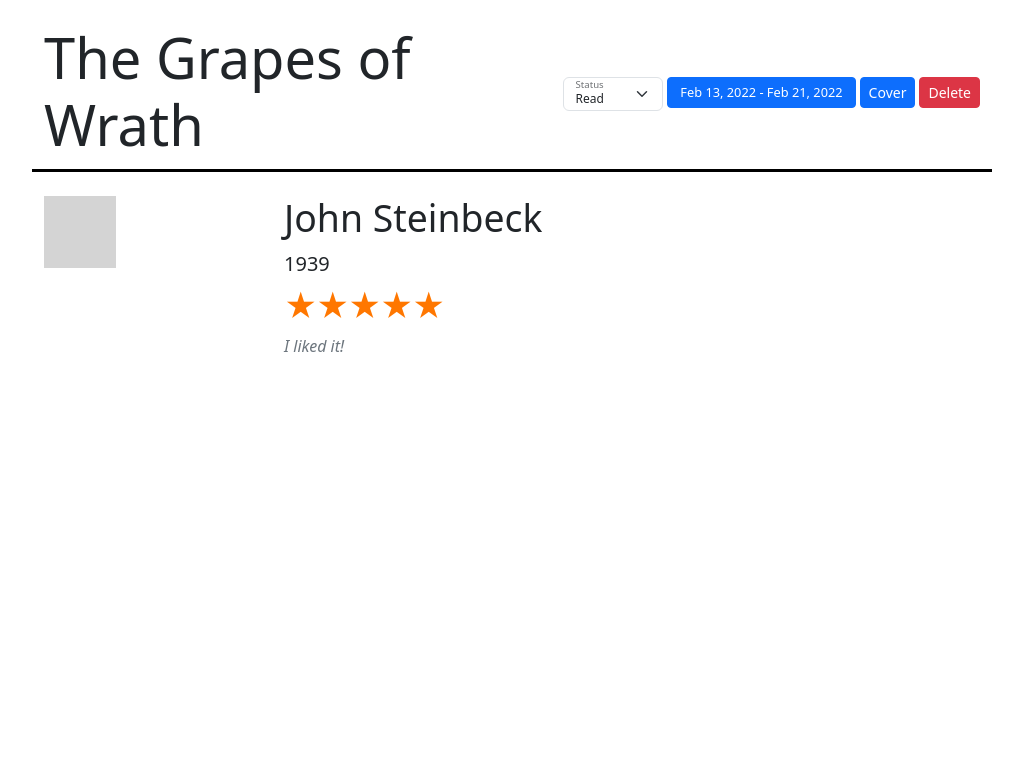
Scenario: cancels deleting a book with cancel button
Click the button "Delete".
click(950, 93)  # box [919,77,980,108]
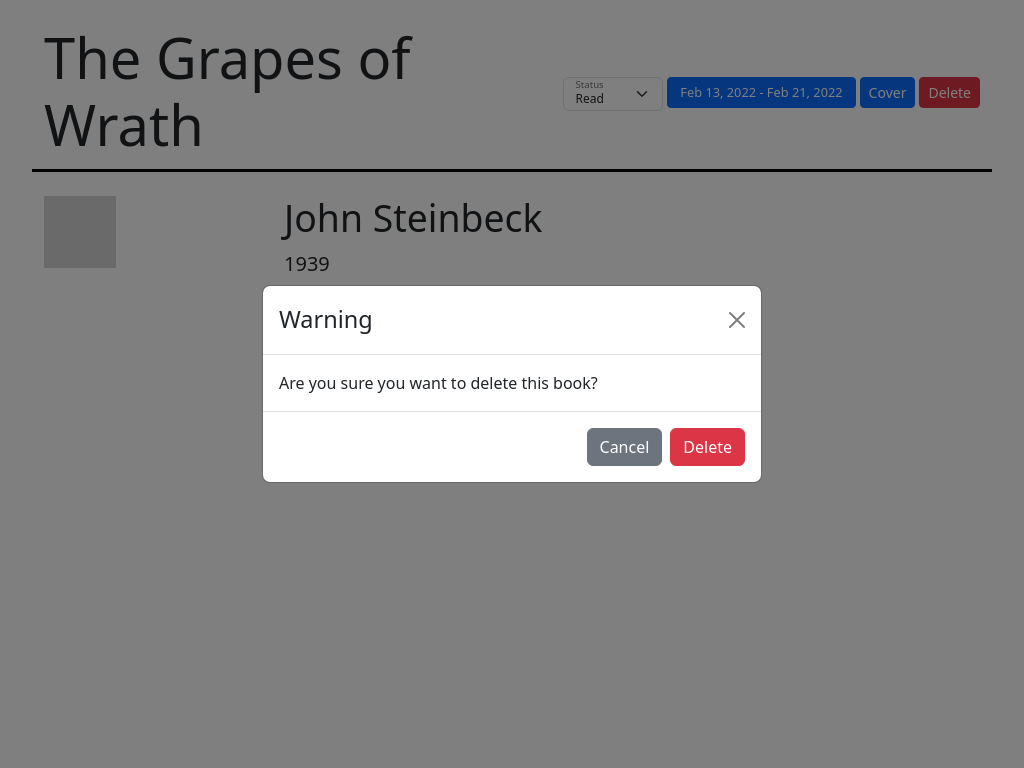
Expected: the dialog is shown, [262,285,762,483]
Expected: the button with aria-label "Cancel Delete" is shown
Note: Cancel deletion
Click the button with aria-label "Cancel Delete".
click(624, 447)  # box [586,428,662,466]
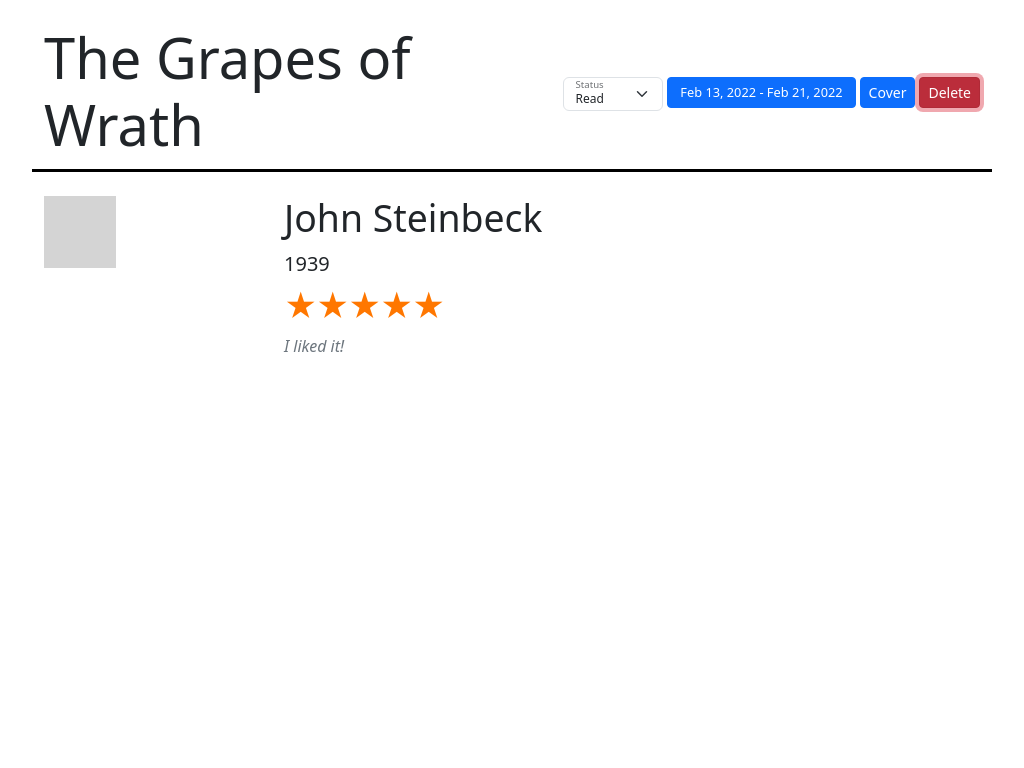
Expected: the dialog is gone
